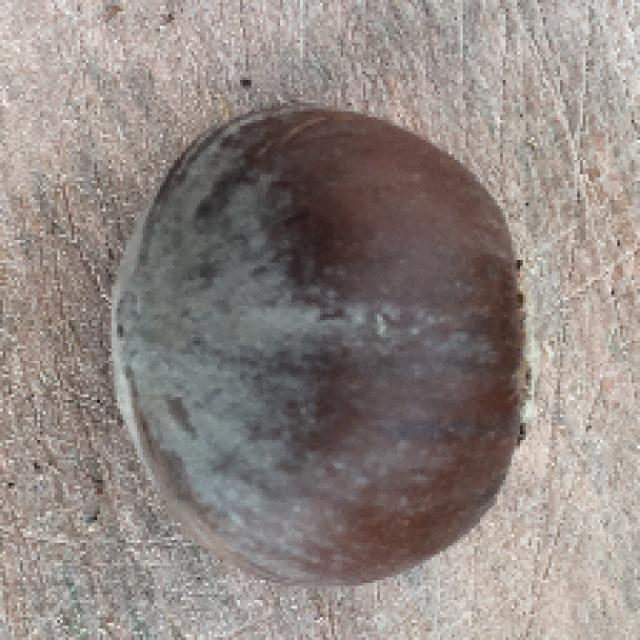damagedHazelnut: (103, 97, 530, 587)
